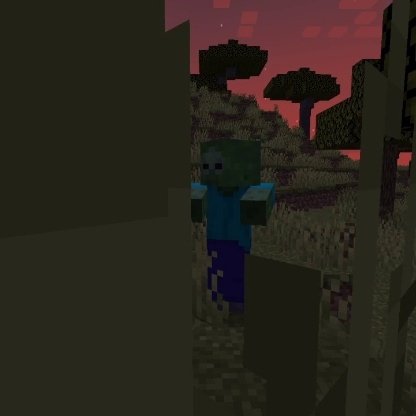zombie: (188, 136, 280, 318)
